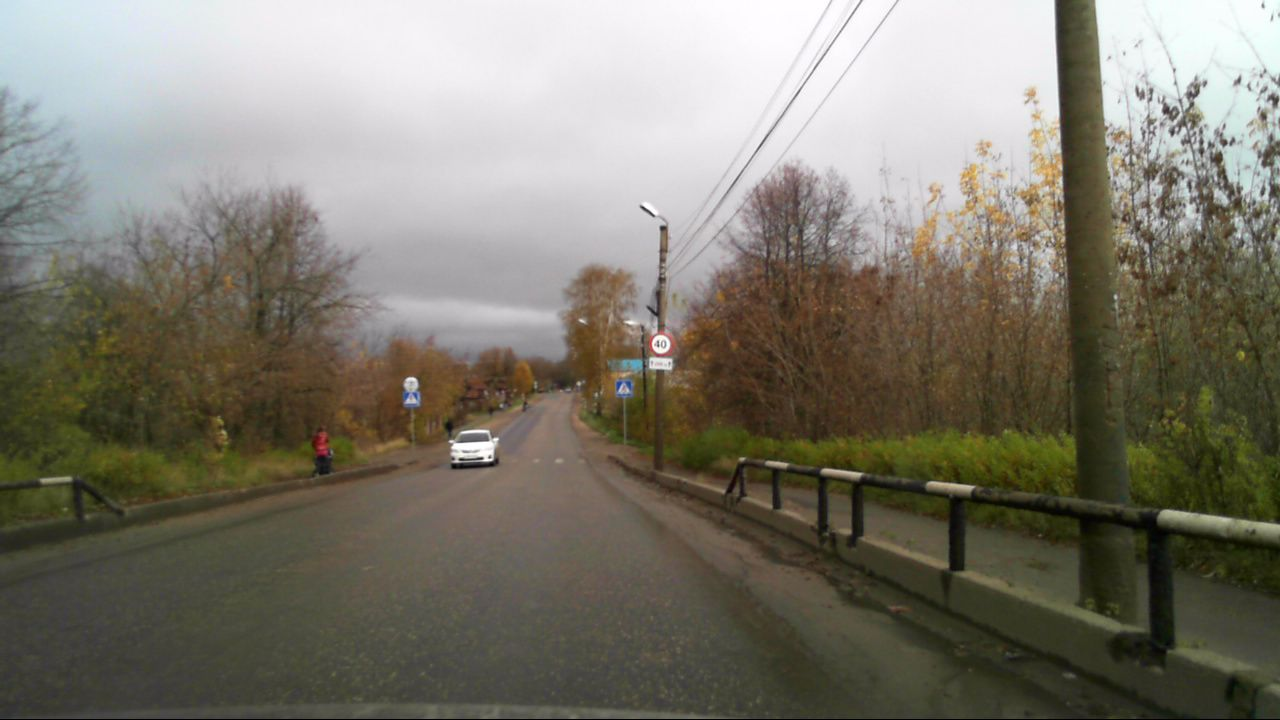speed_warning_40: (649, 331, 674, 356)
